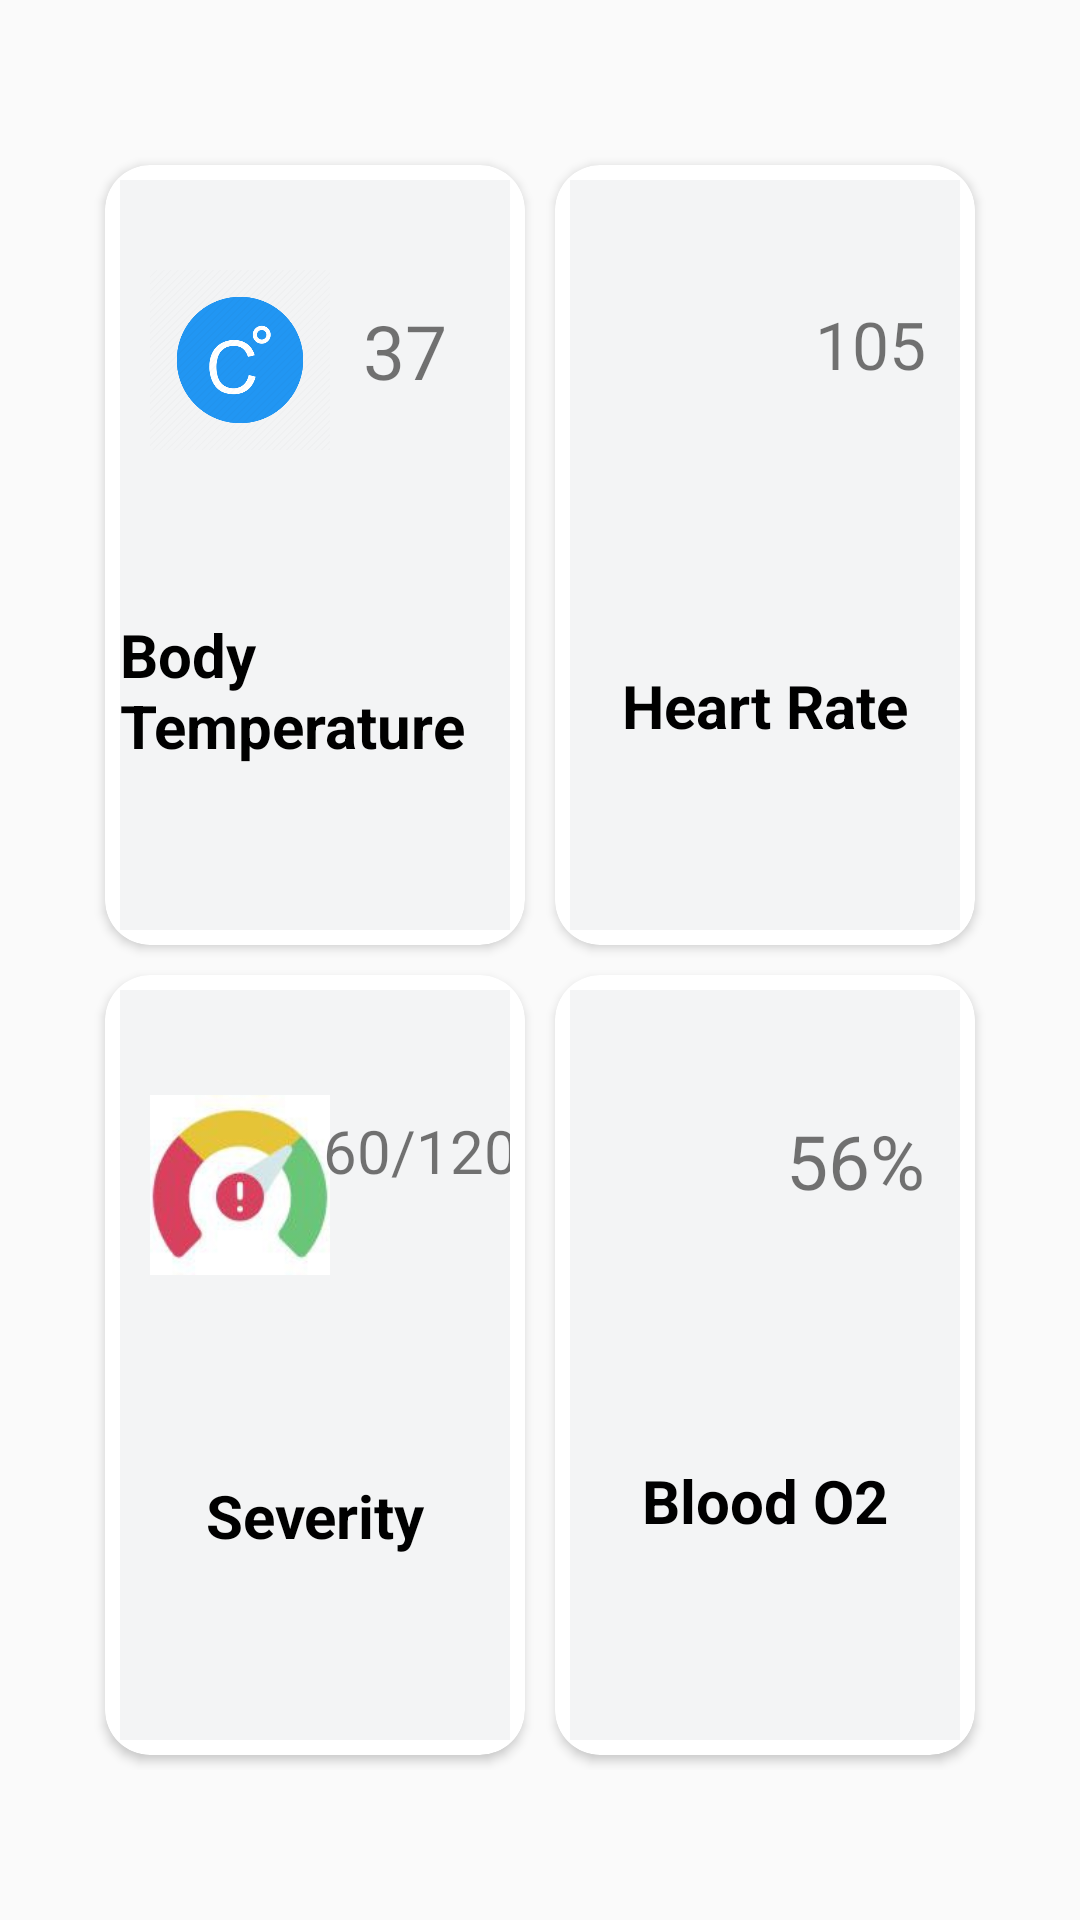

Icon bounding boxes for this 1080 x 1920 phone screenshot, format BBox(x1, y1, x2, y2):
sev: BBox(152, 1109, 328, 1258)
